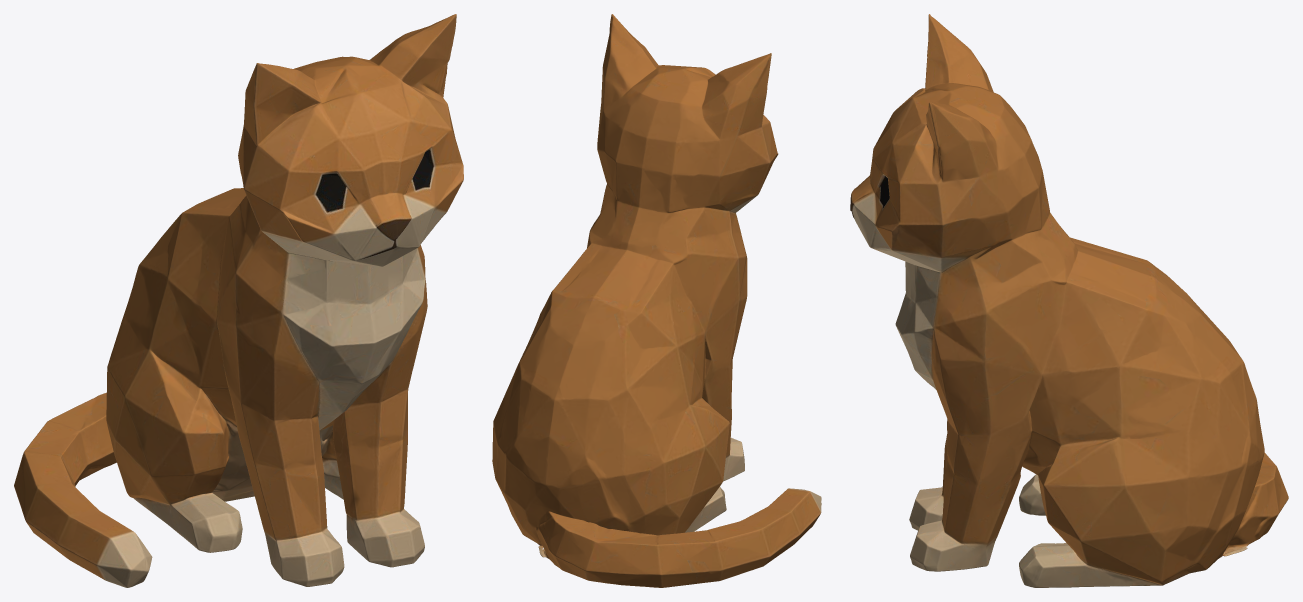
The model's file is cat.glb.
3 renders of one model, left to right at view 1: azimuth 30°, elevation 25°; view 2: azimuth 150°, elevation 25°; view 3: azimuth 270°, elevation 25°, orthographic. The views are drawn at different scales.
Bounding box in the file's own units: 1.28 × 1.9 × 1.56.
1 material, 1 textured.
